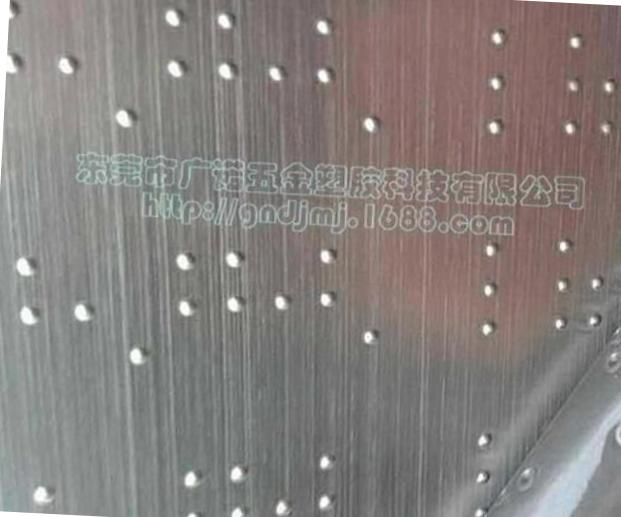Braille: (14, 254, 95, 378), (216, 12, 288, 134), (114, 10, 186, 131), (127, 250, 198, 369), (225, 249, 295, 369), (316, 17, 384, 139), (488, 29, 551, 138), (319, 249, 380, 351), (565, 32, 619, 140), (481, 242, 540, 340), (554, 238, 604, 330), (476, 427, 527, 516)
